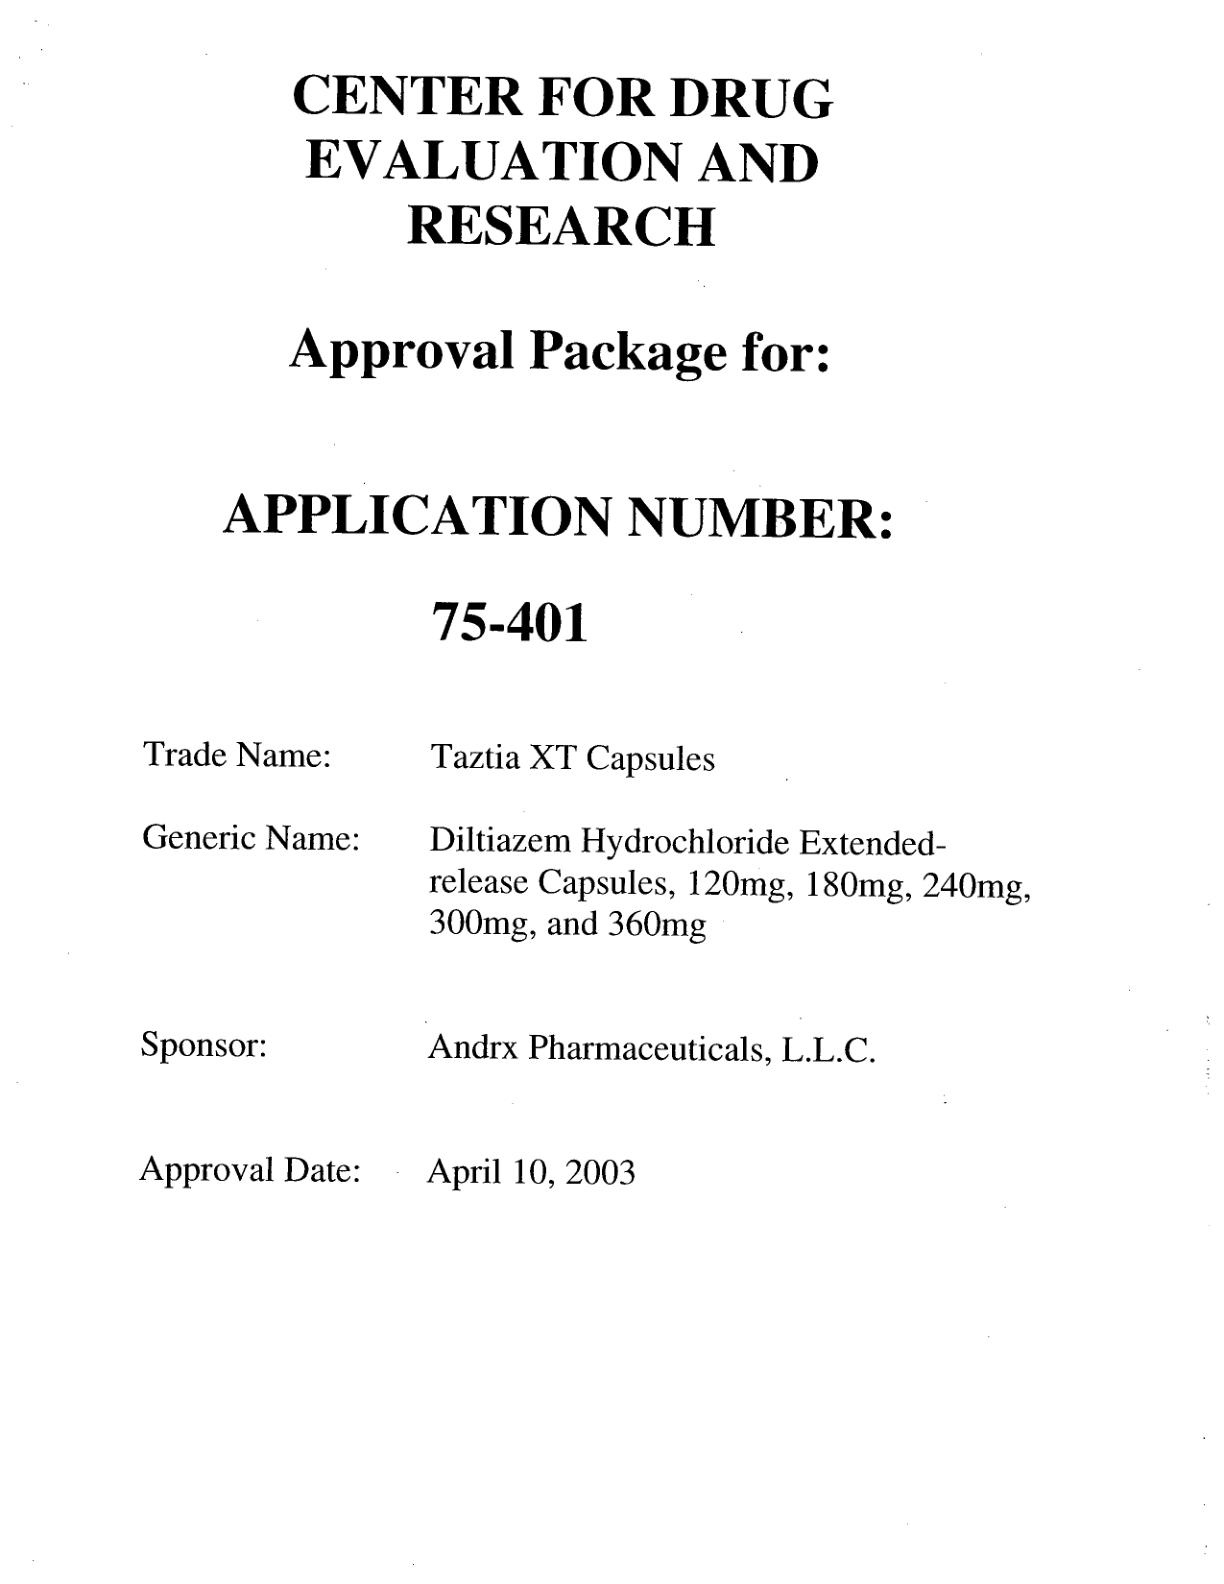nolines: (136, 735, 1032, 1191)
